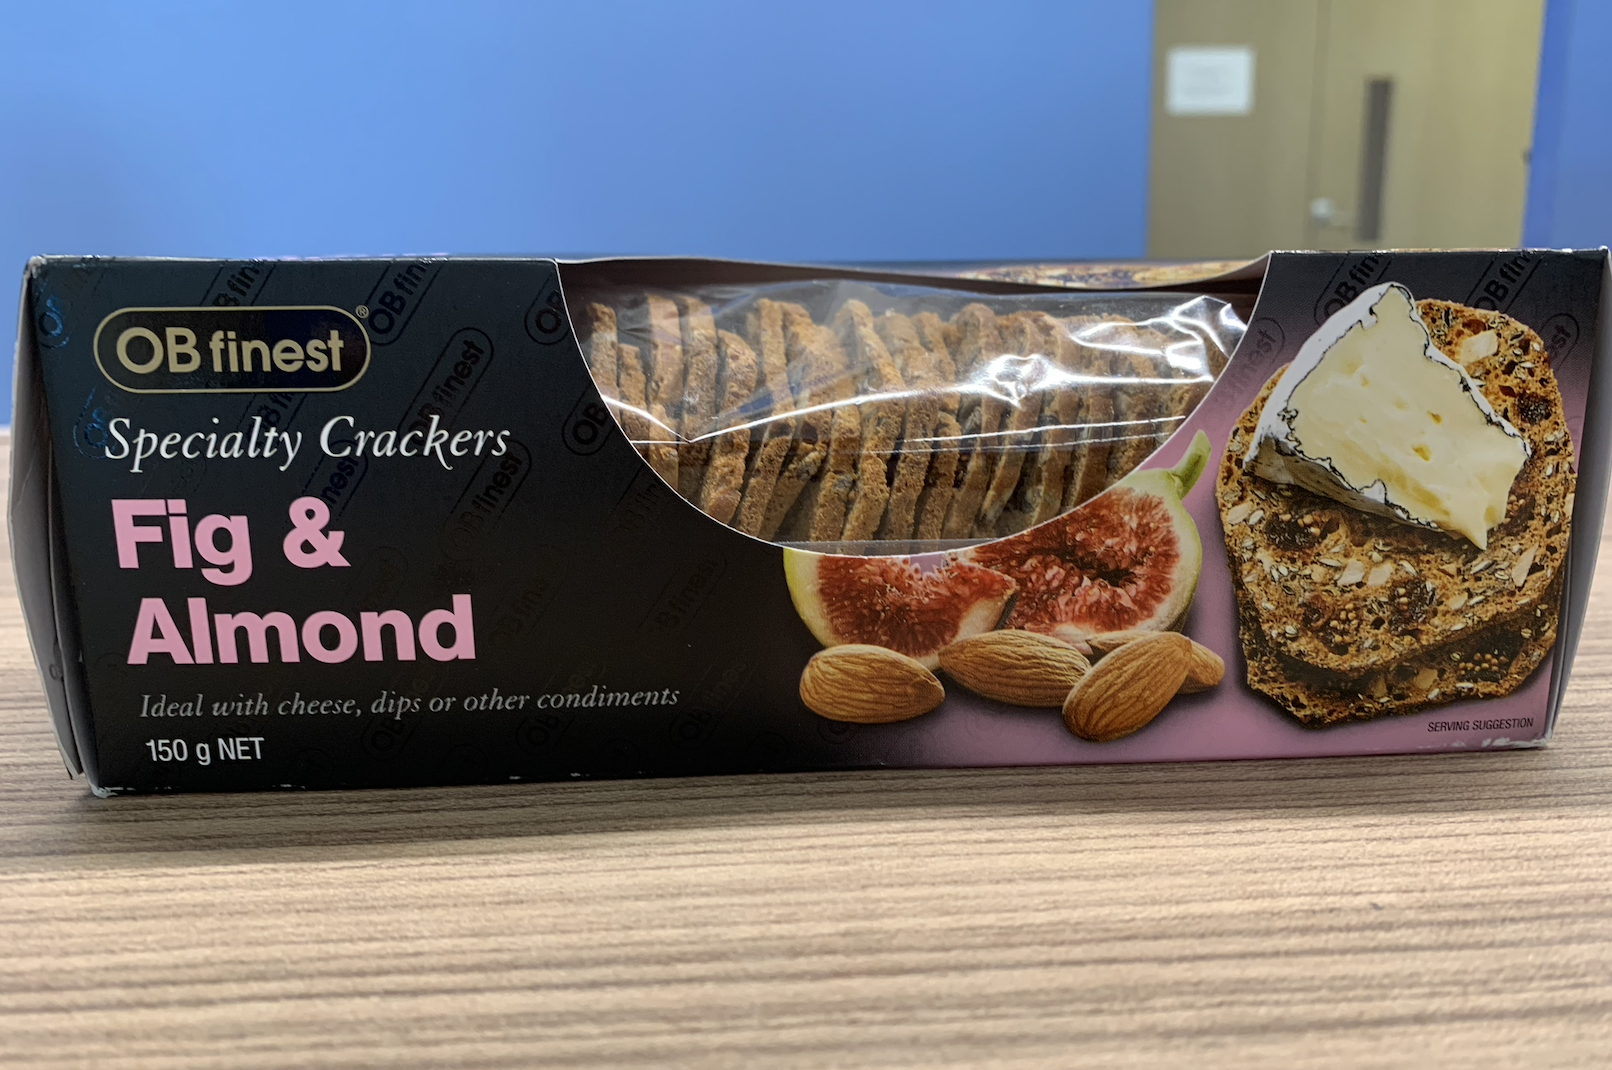crackers_150g: (84, 303, 1532, 774)
